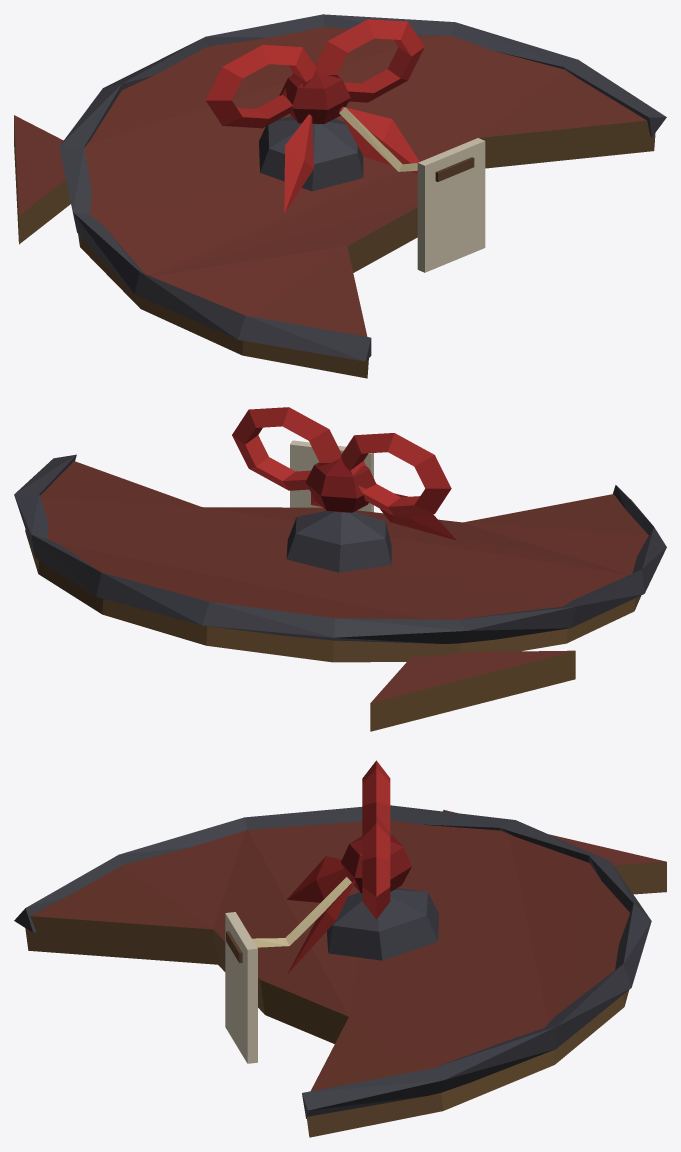
File: quest_shield.glb
The picture shows the model from 3 angles, top to bottom: view 1: azimuth 30°, elevation 25°; view 2: azimuth 150°, elevation 25°; view 3: azimuth 270°, elevation 25°; orthographic projection. The views are drawn at different scales.
Visible parts, largest first — view 1: quest_shield; view 2: quest_shield; view 3: quest_shield.
Part boxes in pixels (bbox=[...]): quest_shield: bbox=[14, 14, 666, 378]; quest_shield: bbox=[14, 407, 666, 731]; quest_shield: bbox=[14, 760, 666, 1137].
Bounding box in the file's own units: 0.4 × 0.1307 × 0.3633.
